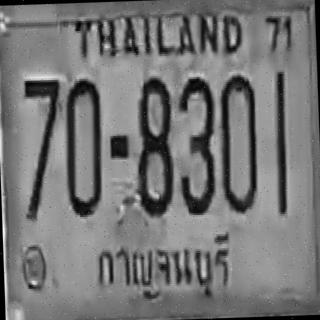N00: (63, 75, 104, 216), (218, 73, 259, 212)
N01: (272, 67, 288, 214)
N03: (175, 74, 216, 213)
N07: (21, 76, 64, 220)
N08: (133, 75, 174, 214)
P17: (87, 224, 241, 302)
